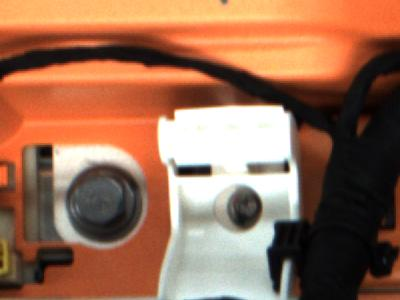nut_b: (64, 158, 143, 246)
